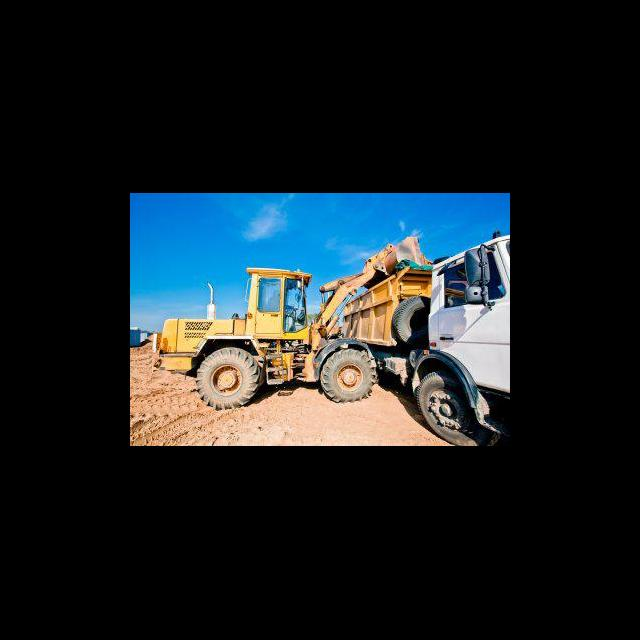Person: (269, 290, 292, 313)
dump truck: (343, 229, 510, 446)
wheel loader: (153, 235, 431, 410)
